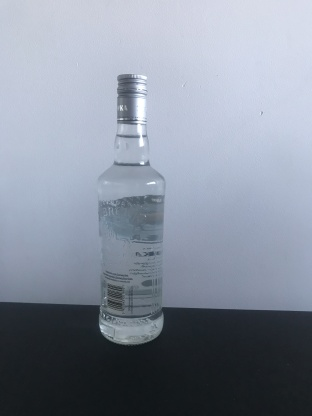nakretka: (114, 71, 149, 127)
